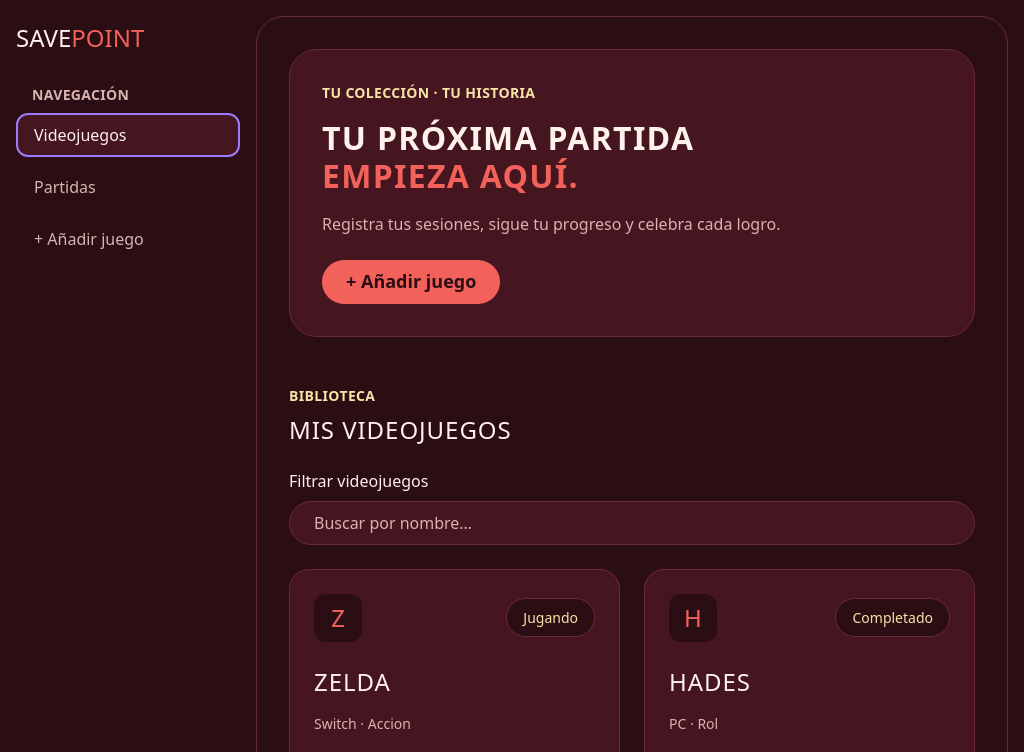
Test: E1: filtrar por nombre actualiza los juegos visibles
Expected: the heading "Zelda" is shown, [314, 665, 391, 698]
In the field labelled "Filtrar videojuegos": (632, 523) [289, 501, 975, 545], type "Hades"
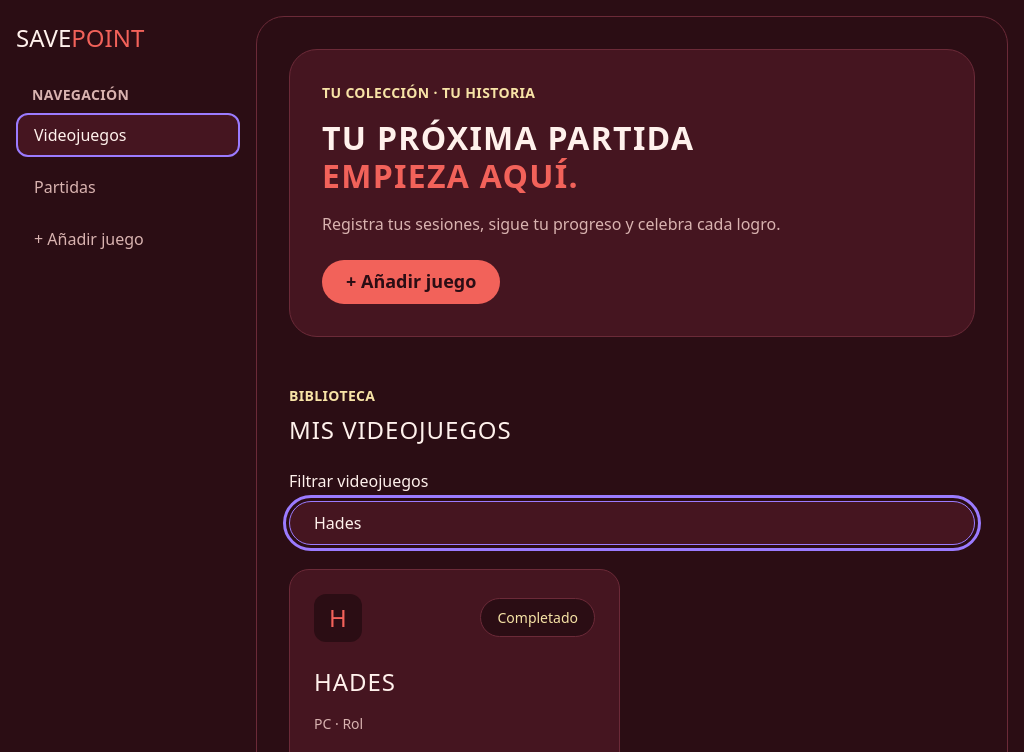
Expected: the heading "Hades" is shown, [314, 665, 396, 698]
Now the heading "Zelda" is gone
